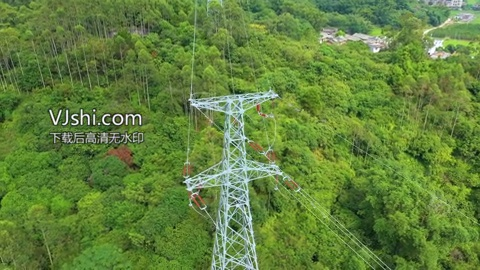tower_body: (181, 87, 287, 270)
tower_foot: (209, 228, 259, 270)
tower_head: (187, 90, 281, 115)
